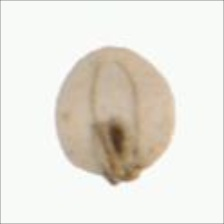L5: (88, 59, 145, 163), (91, 147, 154, 184), (85, 40, 140, 58)
L6: (53, 44, 177, 189)
